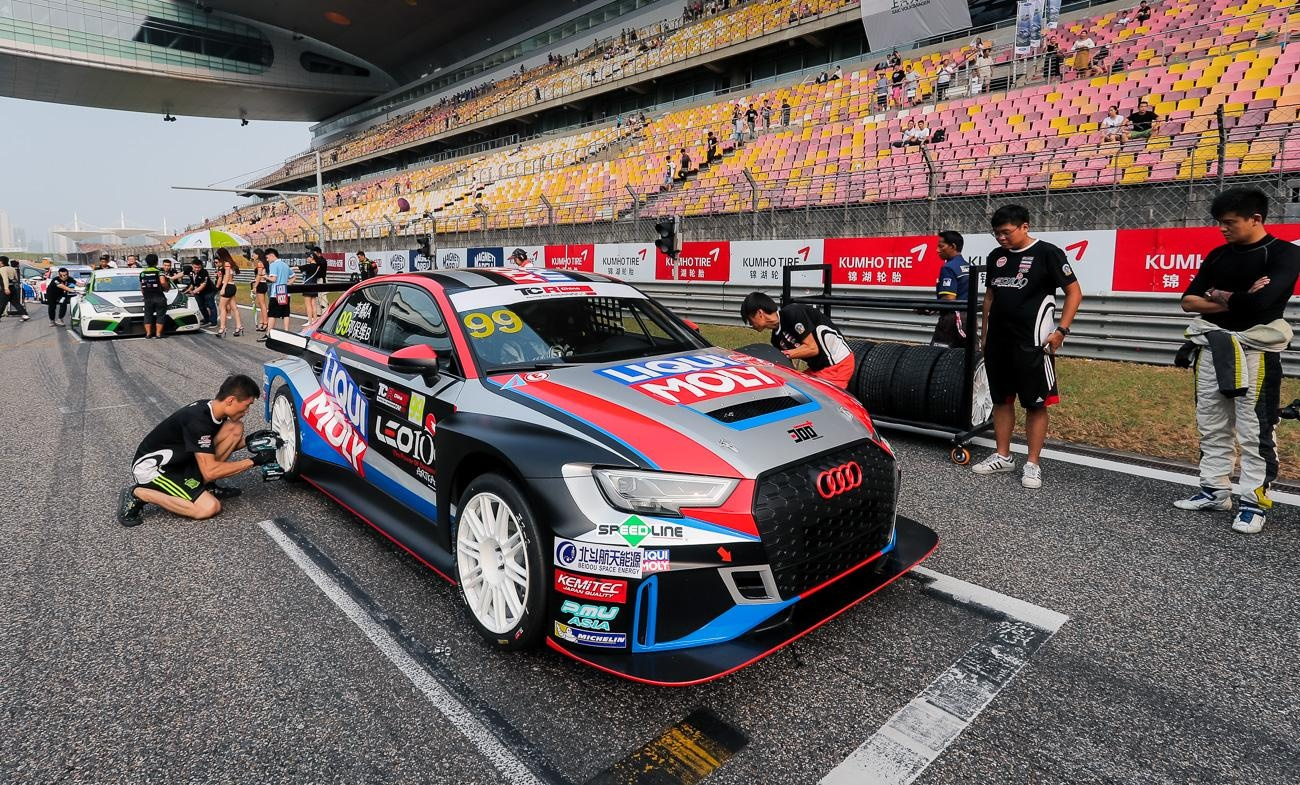racing car: (258, 258, 936, 674)
